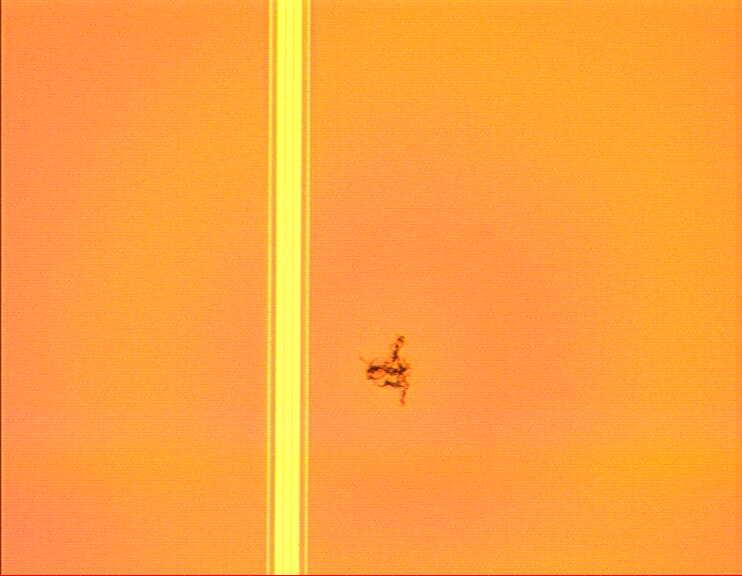PIQ PARTICLE: (358, 335, 418, 407)
